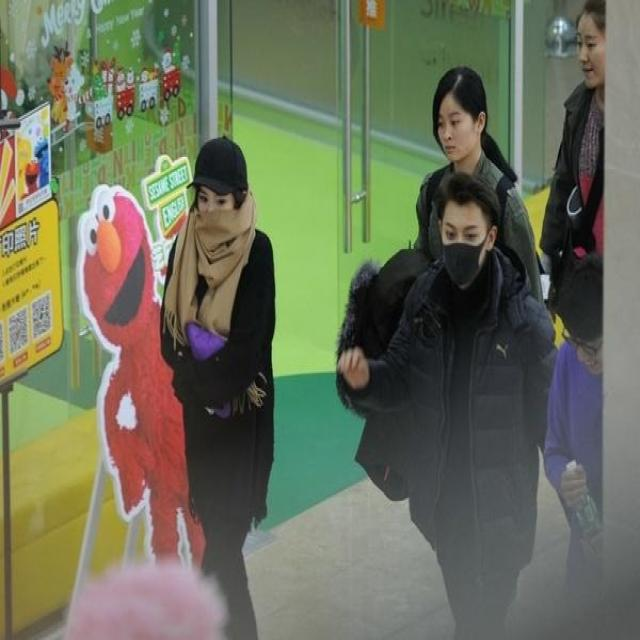mask: (439, 200, 486, 280)
nomask: (196, 180, 237, 246), (574, 19, 606, 84), (438, 96, 470, 158)
